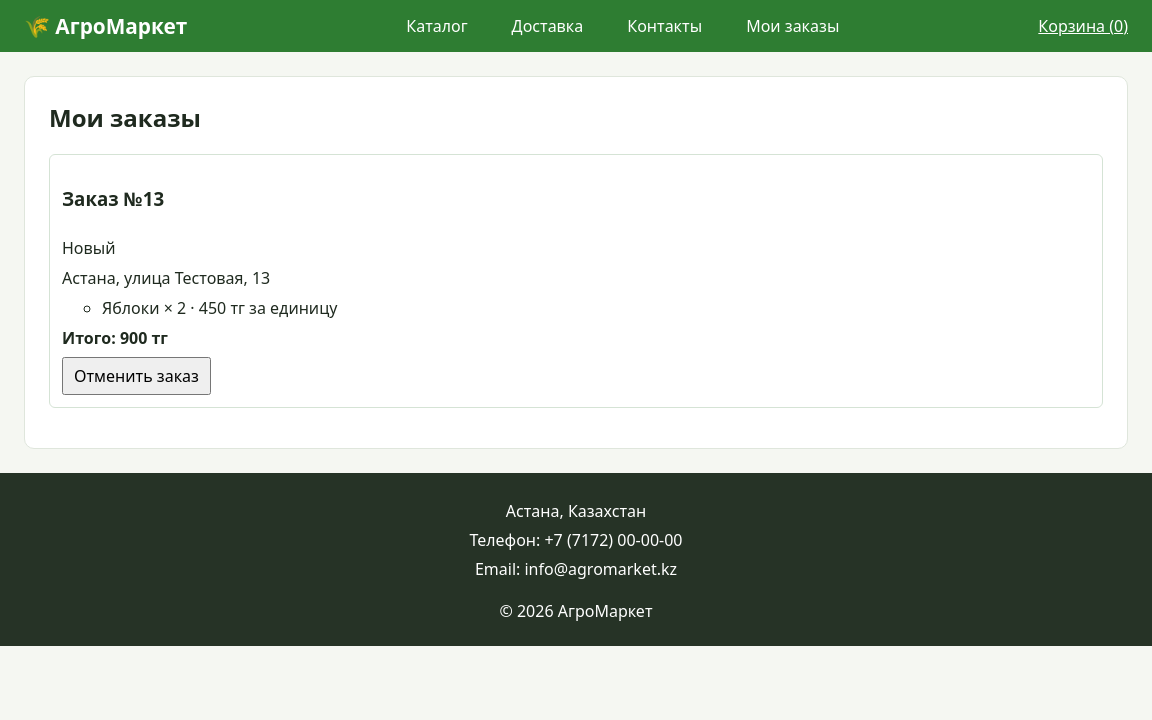
Test: можно отменить новый заказ
What coordinates should you click on to do the following:
click the button "Отменить заказ"
I would click on:
 (136, 376)
Its box is [62, 357, 211, 395].
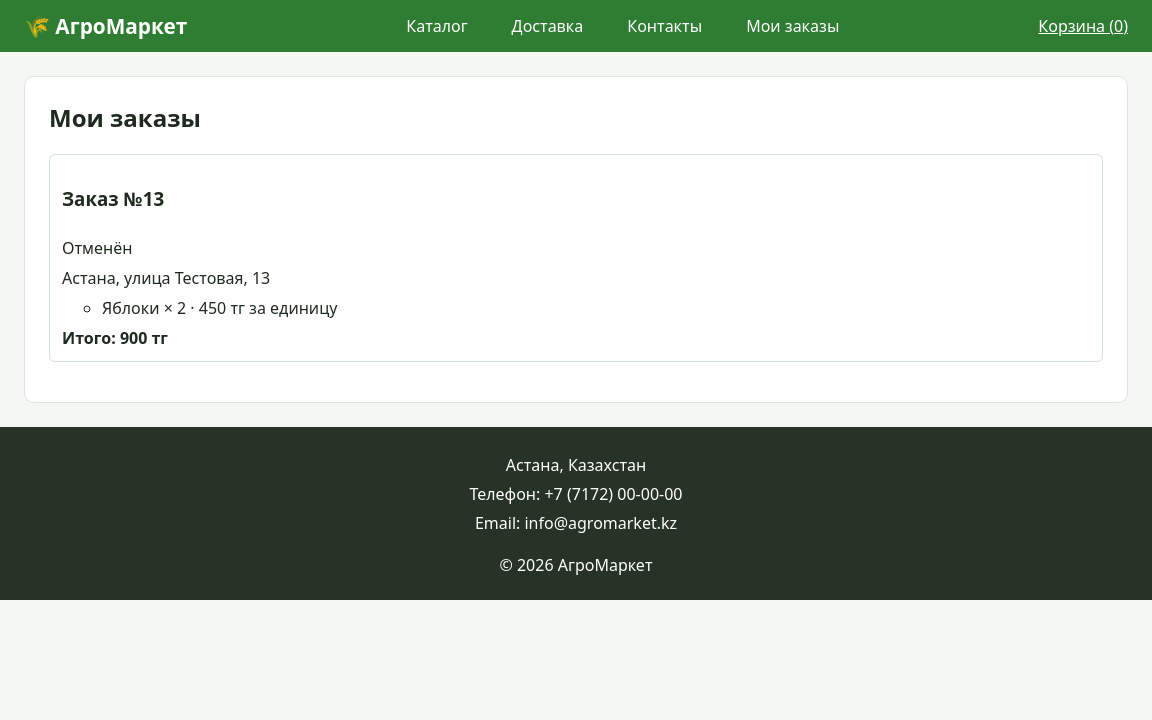
Now the text "Отменён" is shown, box [62, 237, 132, 259]
Now the button "Отменить заказ" is gone
